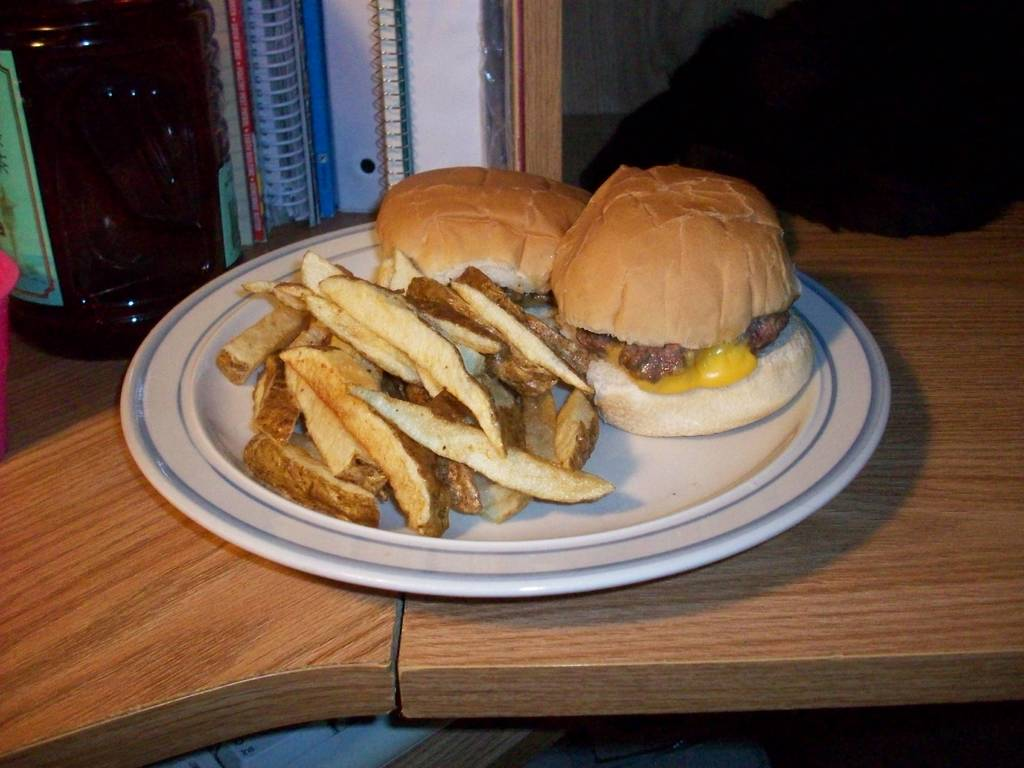Hamburger: (551, 163, 821, 433), (373, 168, 590, 320)
